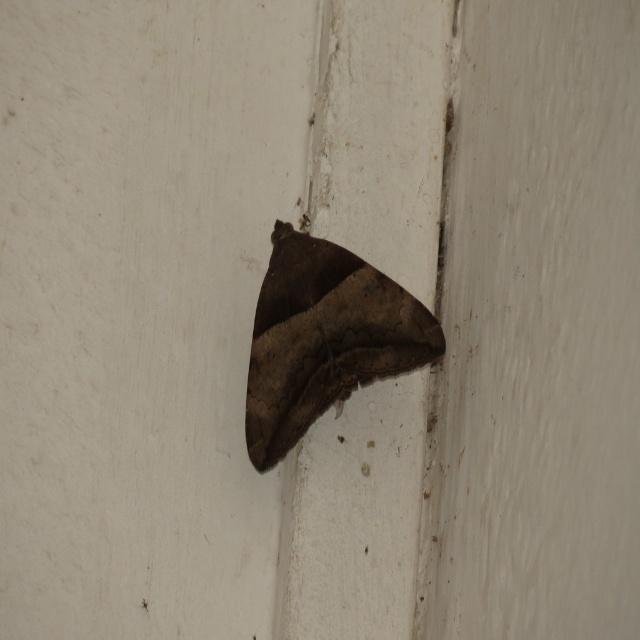Moths and butterflies: (245, 220, 447, 476)
